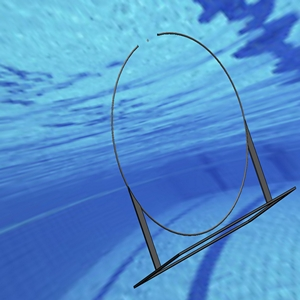circle: (109, 29, 296, 289)
